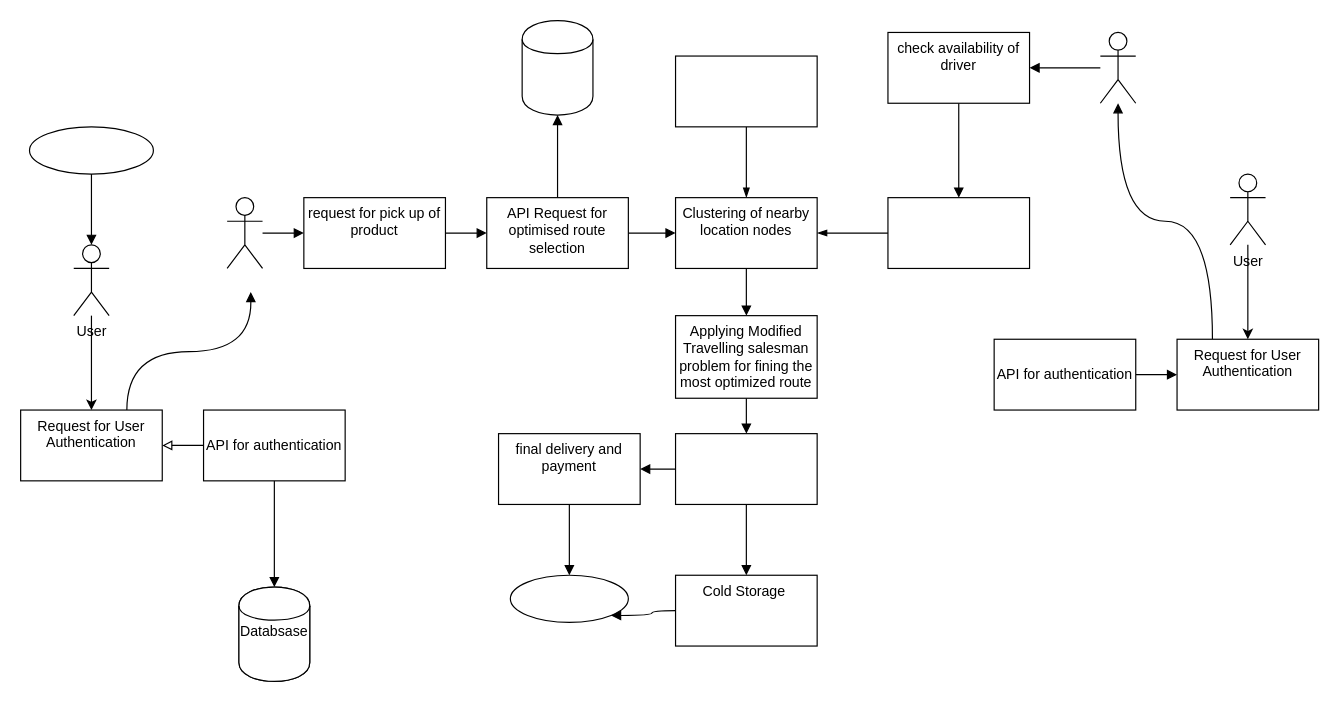
This 1339x702 diagram has some shape labels left out. The centre of each missing label's shape, as x and y in pixels:
"authorized driver" goes at pixel 1117 67.
"authorized user" goes at pixel 244 232.
"Available nearby driver details" goes at pixel 958 232.
"Database" goes at pixel 557 67.
"end" goes at pixel 568 598.
"Preprocessing of data" goes at pixel 745 91.
"Sharing the route details with driver for pickup and delivery." goes at pixel 745 468.
"start" goes at pixel 90 150.
